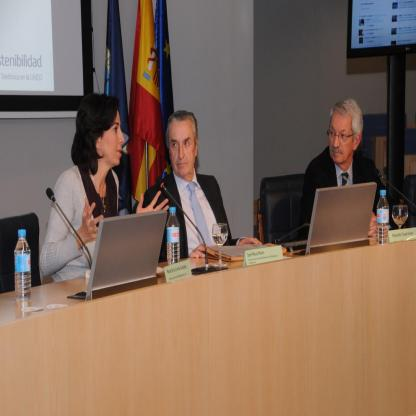board: (80, 201, 167, 295), (292, 181, 376, 255), (14, 228, 32, 309), (166, 207, 180, 266), (376, 190, 388, 242)
